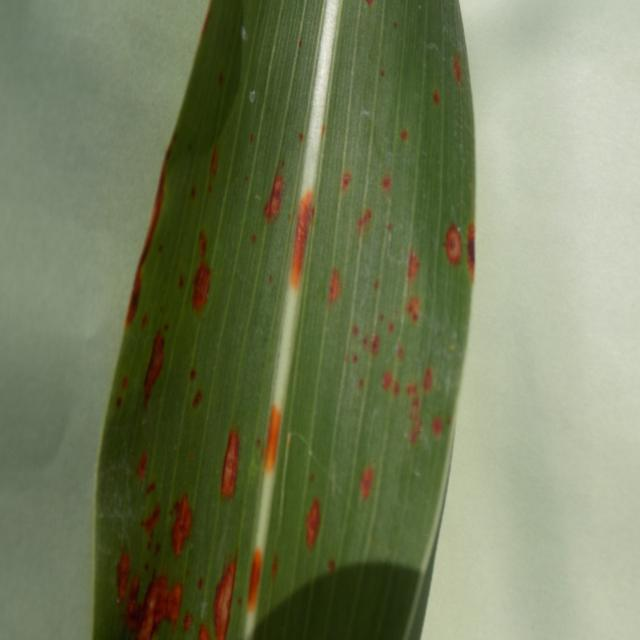millet_rust: (90, 0, 478, 640)
